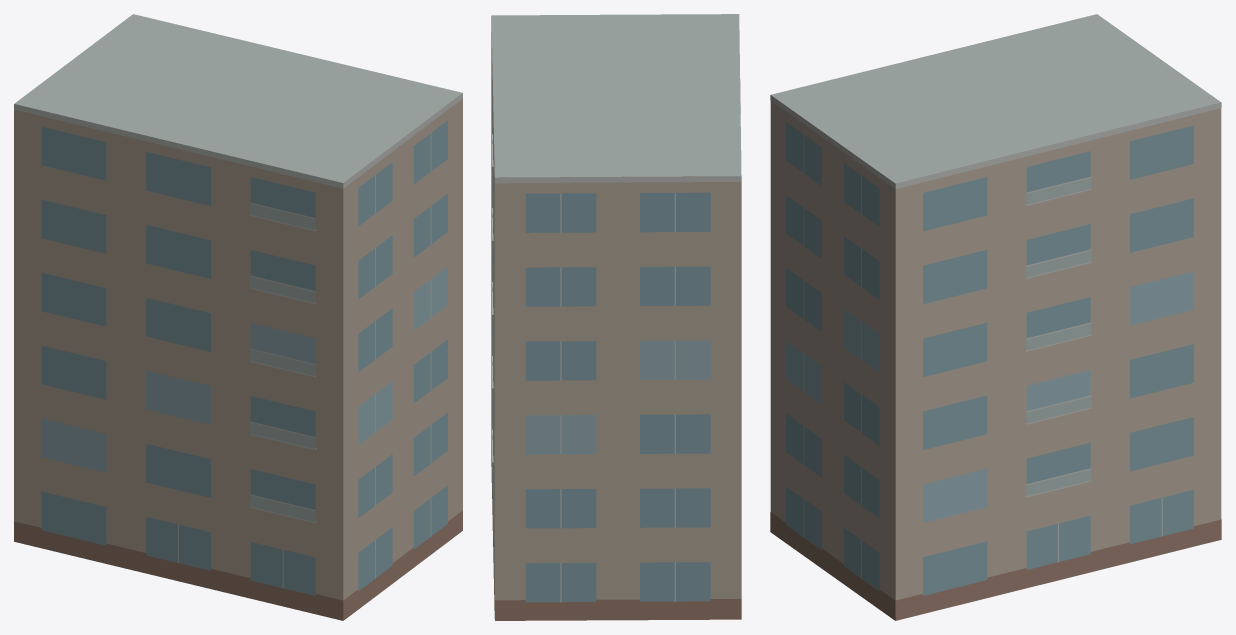
File: survey-upis-32947019.glb
3 renders of one model, left to right at view 1: azimuth 30°, elevation 25°; view 2: azimuth 150°, elevation 25°; view 3: azimuth 270°, elevation 25°, orthographic.
Parts seen in each view (by area): view 1: survey-upis-32947019.tmp; view 2: survey-upis-32947019.tmp; view 3: survey-upis-32947019.tmp.
Part boxes in pixels (box(x1,y1,x2,y2)): survey-upis-32947019.tmp: box(14, 14, 462, 620); survey-upis-32947019.tmp: box(491, 14, 741, 620); survey-upis-32947019.tmp: box(770, 14, 1221, 620).
Size of the model in its own units: 15.64 by 18.8 by 17.58.
